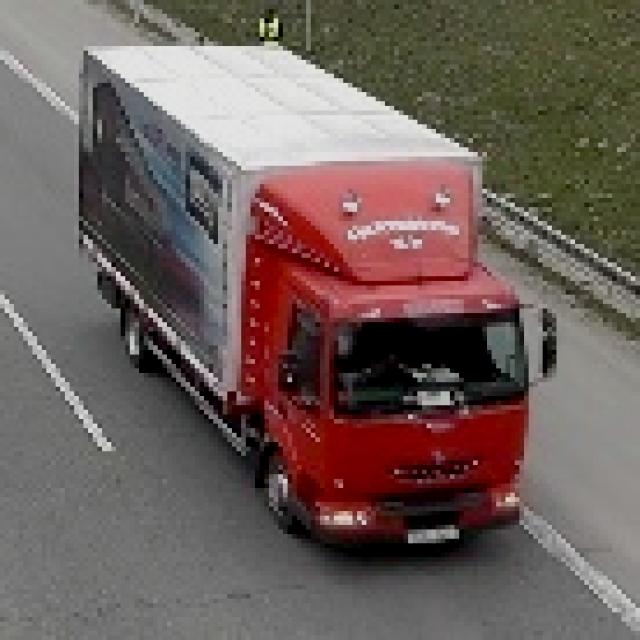truck: (70, 38, 553, 549)
